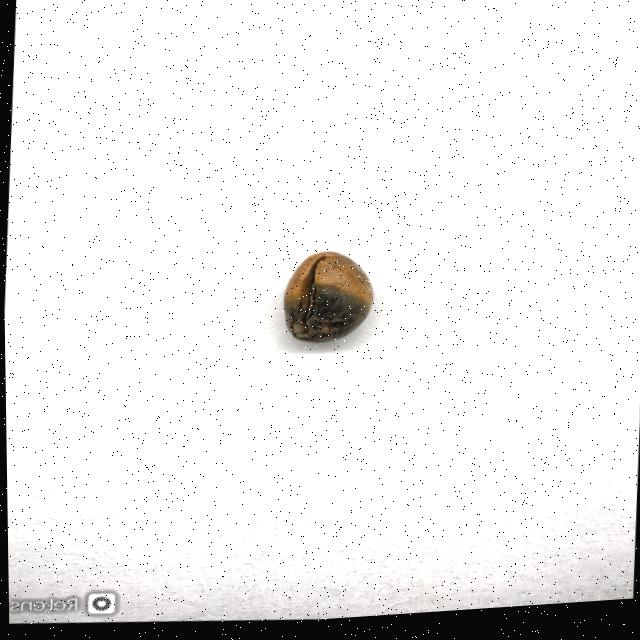Insect damage: (280, 255, 376, 348)
